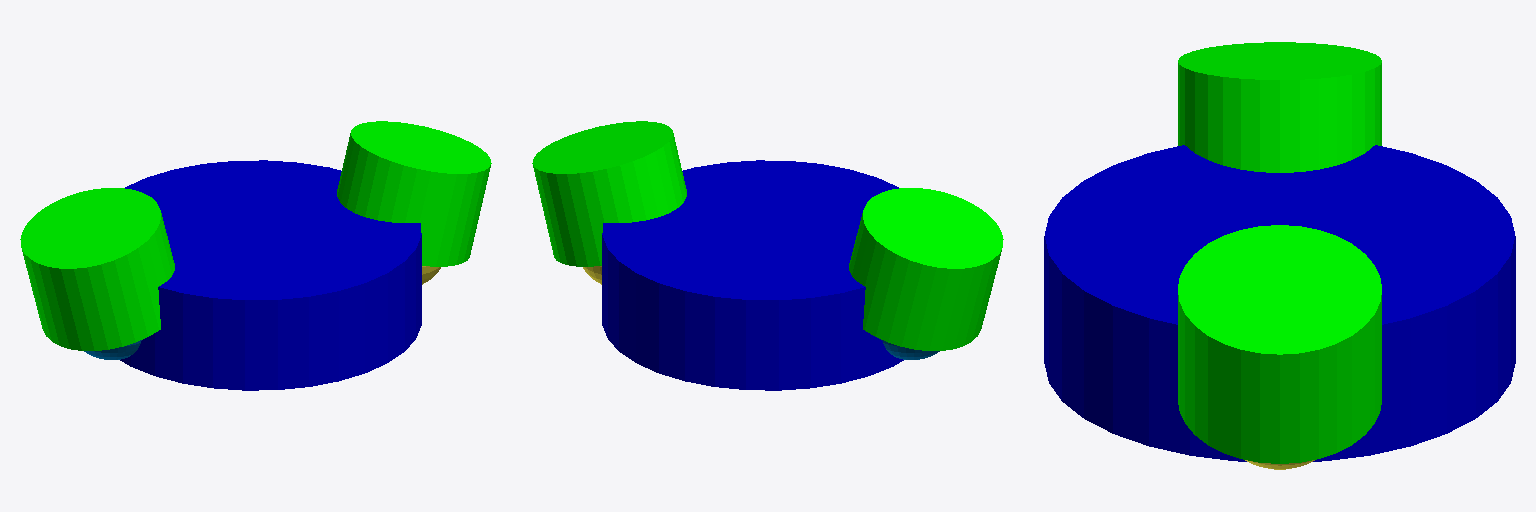
robot.urdf — gripper_2f_1j:
<?xml version='1.0' encoding='UTF-8'?>
<robot name="gripper_2f_1j">
  <link name="palm">
    <inertial>
      <origin xyz="0.0 0.0 0.0" rpy="0.0 -0.0 0.0"/>
      <mass value="1.0"/>
      <inertia ixx="1.0" ixy="0.0" ixz="0.0" iyy="1.0" iyz="0.0" izz="1.0"/>
    </inertial>
    <visual>
      <geometry>
        <cylinder radius="0.05" length="0.03"/>
      </geometry>
      <material name="blue"/>
      <origin xyz="0.0 0.0 0.0" rpy="0.0 -0.0 0.0"/>
    </visual>
    <collision>
      <geometry>
        <cylinder radius="0.05" length="0.03"/>
      </geometry>
      <origin xyz="0.0 0.0 0.0" rpy="0.0 0.0 0.0"/>
    </collision>
  </link>
  <link name="f11">
    <inertial>
      <origin xyz="0.0 0.0 0.0" rpy="0.0 -0.0 0.0"/>
      <mass value="1.0"/>
      <inertia ixx="1.0" ixy="0.0" ixz="0.0" iyy="1.0" iyz="0.0" izz="1.0"/>
    </inertial>
    <visual>
      <geometry>
        <cylinder radius="0.021730822336329614" length="0.03001944371894863"/>
      </geometry>
      <material name="green"/>
      <origin xyz="0.0 0.0 0.015009721859474315" rpy="0.0 -0.0 0.0"/>
    </visual>
    <collision>
      <geometry>
        <cylinder radius="0.021730822336329614" length="0.03001944371894863"/>
      </geometry>
      <origin xyz="0.0 0.0 0.05" rpy="0.0 0.0 0.0"/>
    </collision>
  </link>
  <link name="f21">
    <inertial>
      <origin xyz="0.0 0.0 0.0" rpy="0.0 -0.0 0.0"/>
      <mass value="1.0"/>
      <inertia ixx="1.0" ixy="0.0" ixz="0.0" iyy="1.0" iyz="0.0" izz="1.0"/>
    </inertial>
    <visual>
      <geometry>
        <cylinder radius="0.021730822336329614" length="0.03001944371894863"/>
      </geometry>
      <material name="green"/>
      <origin xyz="0.0 0.0 0.015009721859474315" rpy="0.0 -0.0 0.0"/>
    </visual>
    <collision>
      <geometry>
        <cylinder radius="0.021730822336329614" length="0.03001944371894863"/>
      </geometry>
      <origin xyz="0.0 0.0 0.05" rpy="0.0 0.0 0.0"/>
    </collision>
  </link>
  <link name="f11_base">
    <inertial>
      <origin xyz="0.0 0.0 0.0" rpy="0.0 -0.0 0.0"/>
      <mass value="1.0"/>
      <inertia ixx="1.0" ixy="0.0" ixz="0.0" iyy="1.0" iyz="0.0" izz="1.0"/>
    </inertial>
    <visual>
      <geometry>
        <sphere radius="0.015"/>
      </geometry>
      <origin xyz="0.0 0.0 0.0" rpy="0.0 -0.0 0.0"/>
    </visual>
  </link>
  <link name="f21_base">
    <inertial>
      <origin xyz="0.0 0.0 0.0" rpy="0.0 -0.0 0.0"/>
      <mass value="1.0"/>
      <inertia ixx="1.0" ixy="0.0" ixz="0.0" iyy="1.0" iyz="0.0" izz="1.0"/>
    </inertial>
    <visual>
      <geometry>
        <sphere radius="0.015"/>
      </geometry>
      <origin xyz="0.0 0.0 0.0" rpy="0.0 -0.0 0.0"/>
    </visual>
  </link>
  <joint name="f11_joint" type="revolute">
    <dynamics damping="100.0" friction="1.0"/>
    <limit effort="30.0" velocity="2.0" lower="-0.6" upper="0.25"/>
    <parent link="f11_base"/>
    <child link="f11"/>
    <axis xyz="0. 1. 0."/>
    <origin xyz="0.0 0.0 0.0" rpy="0.0 0.25 0.0"/>
  </joint>
  <joint name="f21_joint" type="revolute">
    <dynamics damping="100.0" friction="1.0"/>
    <limit effort="30.0" velocity="2.0" lower="-0.6" upper="0.25"/>
    <parent link="f21_base"/>
    <child link="f21"/>
    <axis xyz=" 0. -1.  0."/>
    <origin xyz="0.0 0.0 0.0" rpy="0.0 -0.25 0.0"/>
  </joint>
  <joint name="f11_base_joint" type="fixed">
    <parent link="palm"/>
    <child link="f11_base"/>
    <axis xyz="1. 0. 0."/>
    <origin xyz="0.05 0.0 0.0" rpy="0.0 0.0 0.0"/>
  </joint>
  <joint name="f21_base_joint" type="fixed">
    <parent link="palm"/>
    <child link="f21_base"/>
    <axis xyz="1. 0. 0."/>
    <origin xyz="-0.05 -0.0 0.0" rpy="0.0 0.0 0.0"/>
  </joint>
  <material name="blue">
    <color rgba="0.  0.  0.8 1. "/>
  </material>
  <material name="green">
    <color rgba="0. 1. 0. 1."/>
  </material>
</robot>

--- Facts derived from the render (not from the file) ---
Views: 3 orthographic renders of the robot side by side, from view 1: azimuth 30°, elevation 25°; view 2: azimuth 150°, elevation 25°; view 3: azimuth 270°, elevation 25°.
Model gripper_2f_1j with 5 links and 4 joints (2 revolute, 2 fixed), rooted at palm, posed every joint at zero.
Visible links, largest first — view 1: palm, f21, f11; view 2: palm, f21, f11; view 3: palm, f11, f21.
Link boxes in pixels (<box>): palm: <box>120,160,421,390</box>; f21: <box>20,188,174,350</box>; f11: <box>337,121,491,266</box>; palm: <box>602,160,903,390</box>; f21: <box>849,188,1003,350</box>; f11: <box>532,121,686,266</box>; palm: <box>1044,145,1515,461</box>; f11: <box>1178,225,1381,463</box>; f21: <box>1178,42,1381,172</box>.
Bounding box of the posed robot: 0.157 × 0.1 × 0.0495 m (x, y, z).
Geometry: primitives only (box / cylinder / sphere), no mesh files.